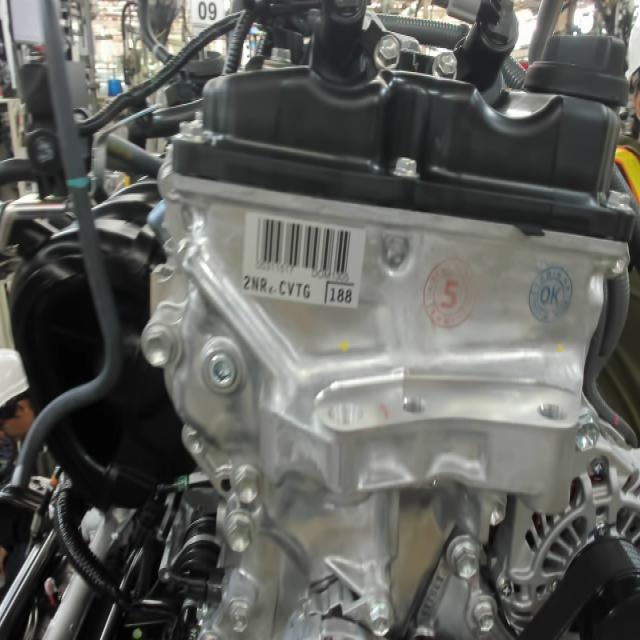Engine Assy-188: (324, 275, 361, 309)
Hose Canister-HJ: (65, 174, 96, 194)
